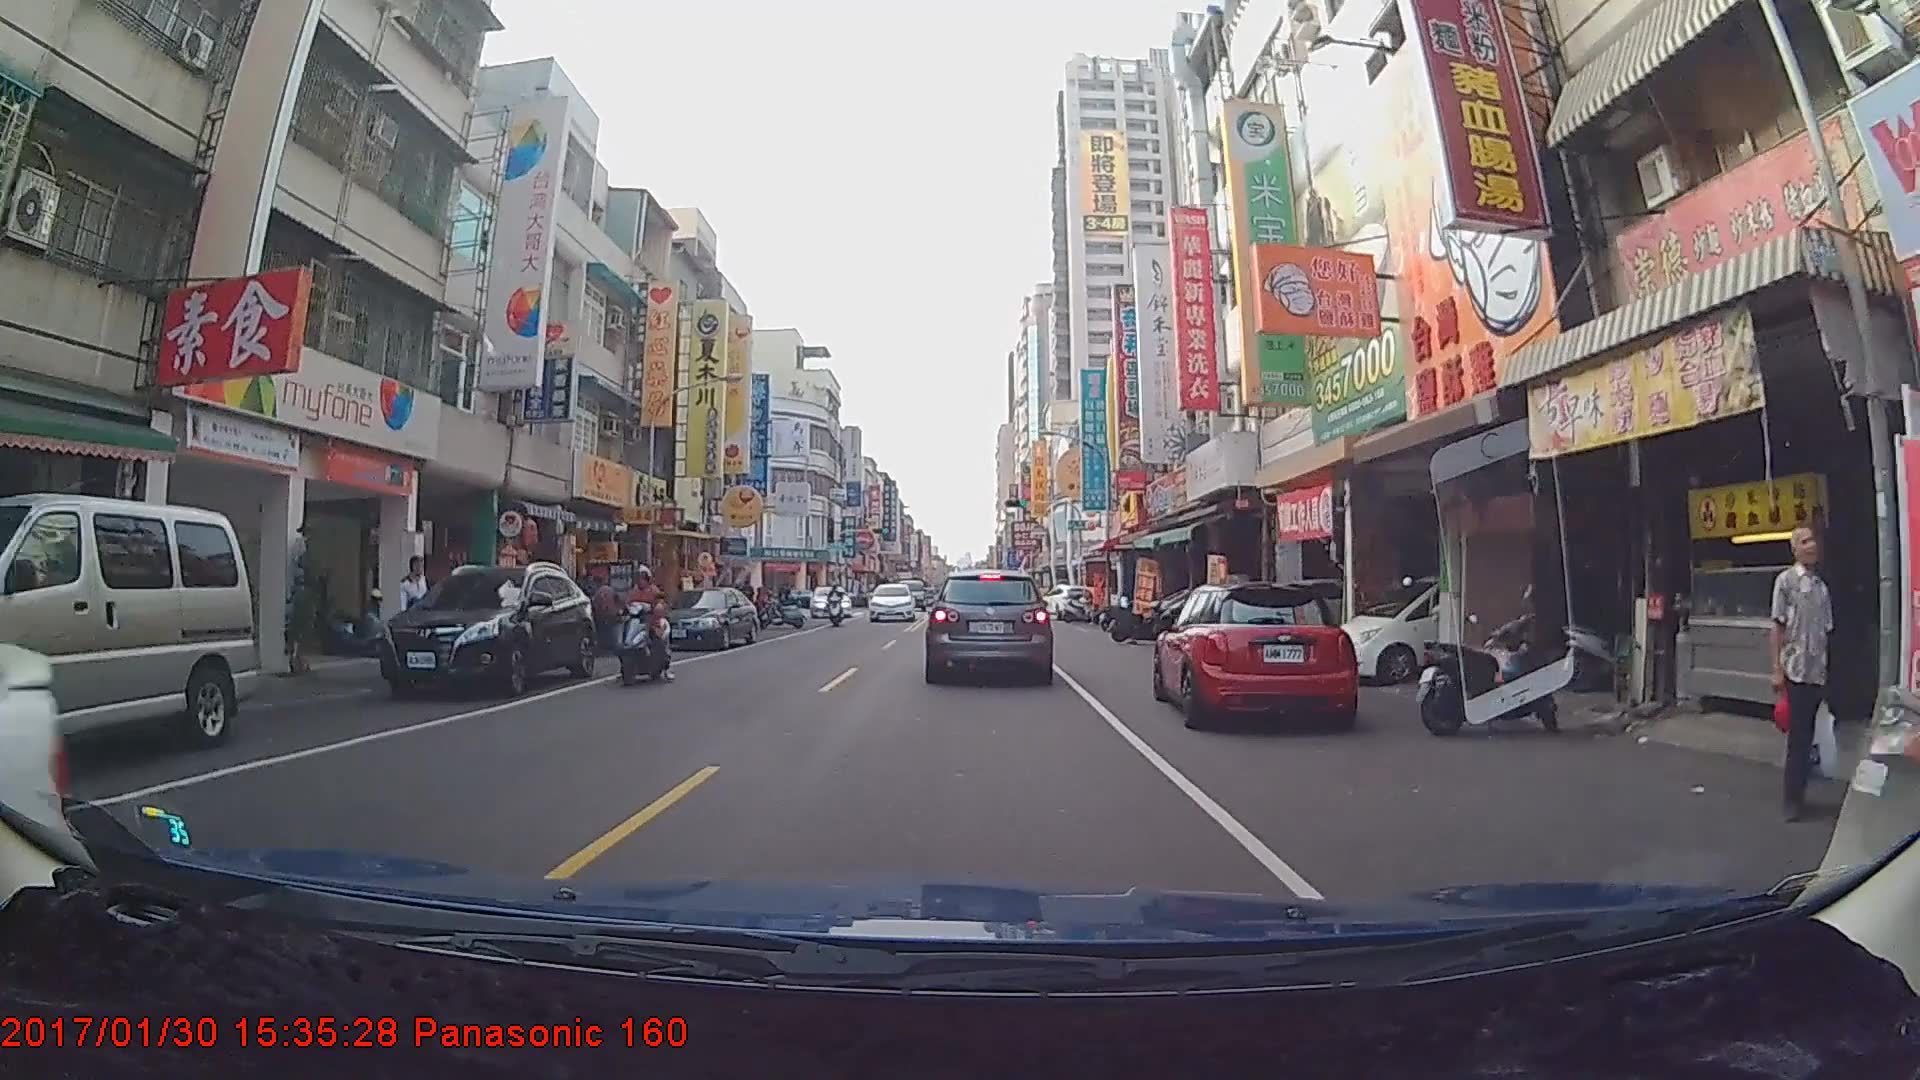pedestrian: (1772, 525, 1838, 823), (395, 556, 433, 682)
rider: (613, 567, 674, 688), (825, 579, 852, 629)
vehicle: (0, 489, 260, 750), (1153, 580, 1360, 730), (377, 562, 595, 696), (927, 566, 1051, 682), (645, 585, 758, 650), (866, 581, 916, 622), (1036, 581, 1091, 618), (809, 586, 850, 617)
